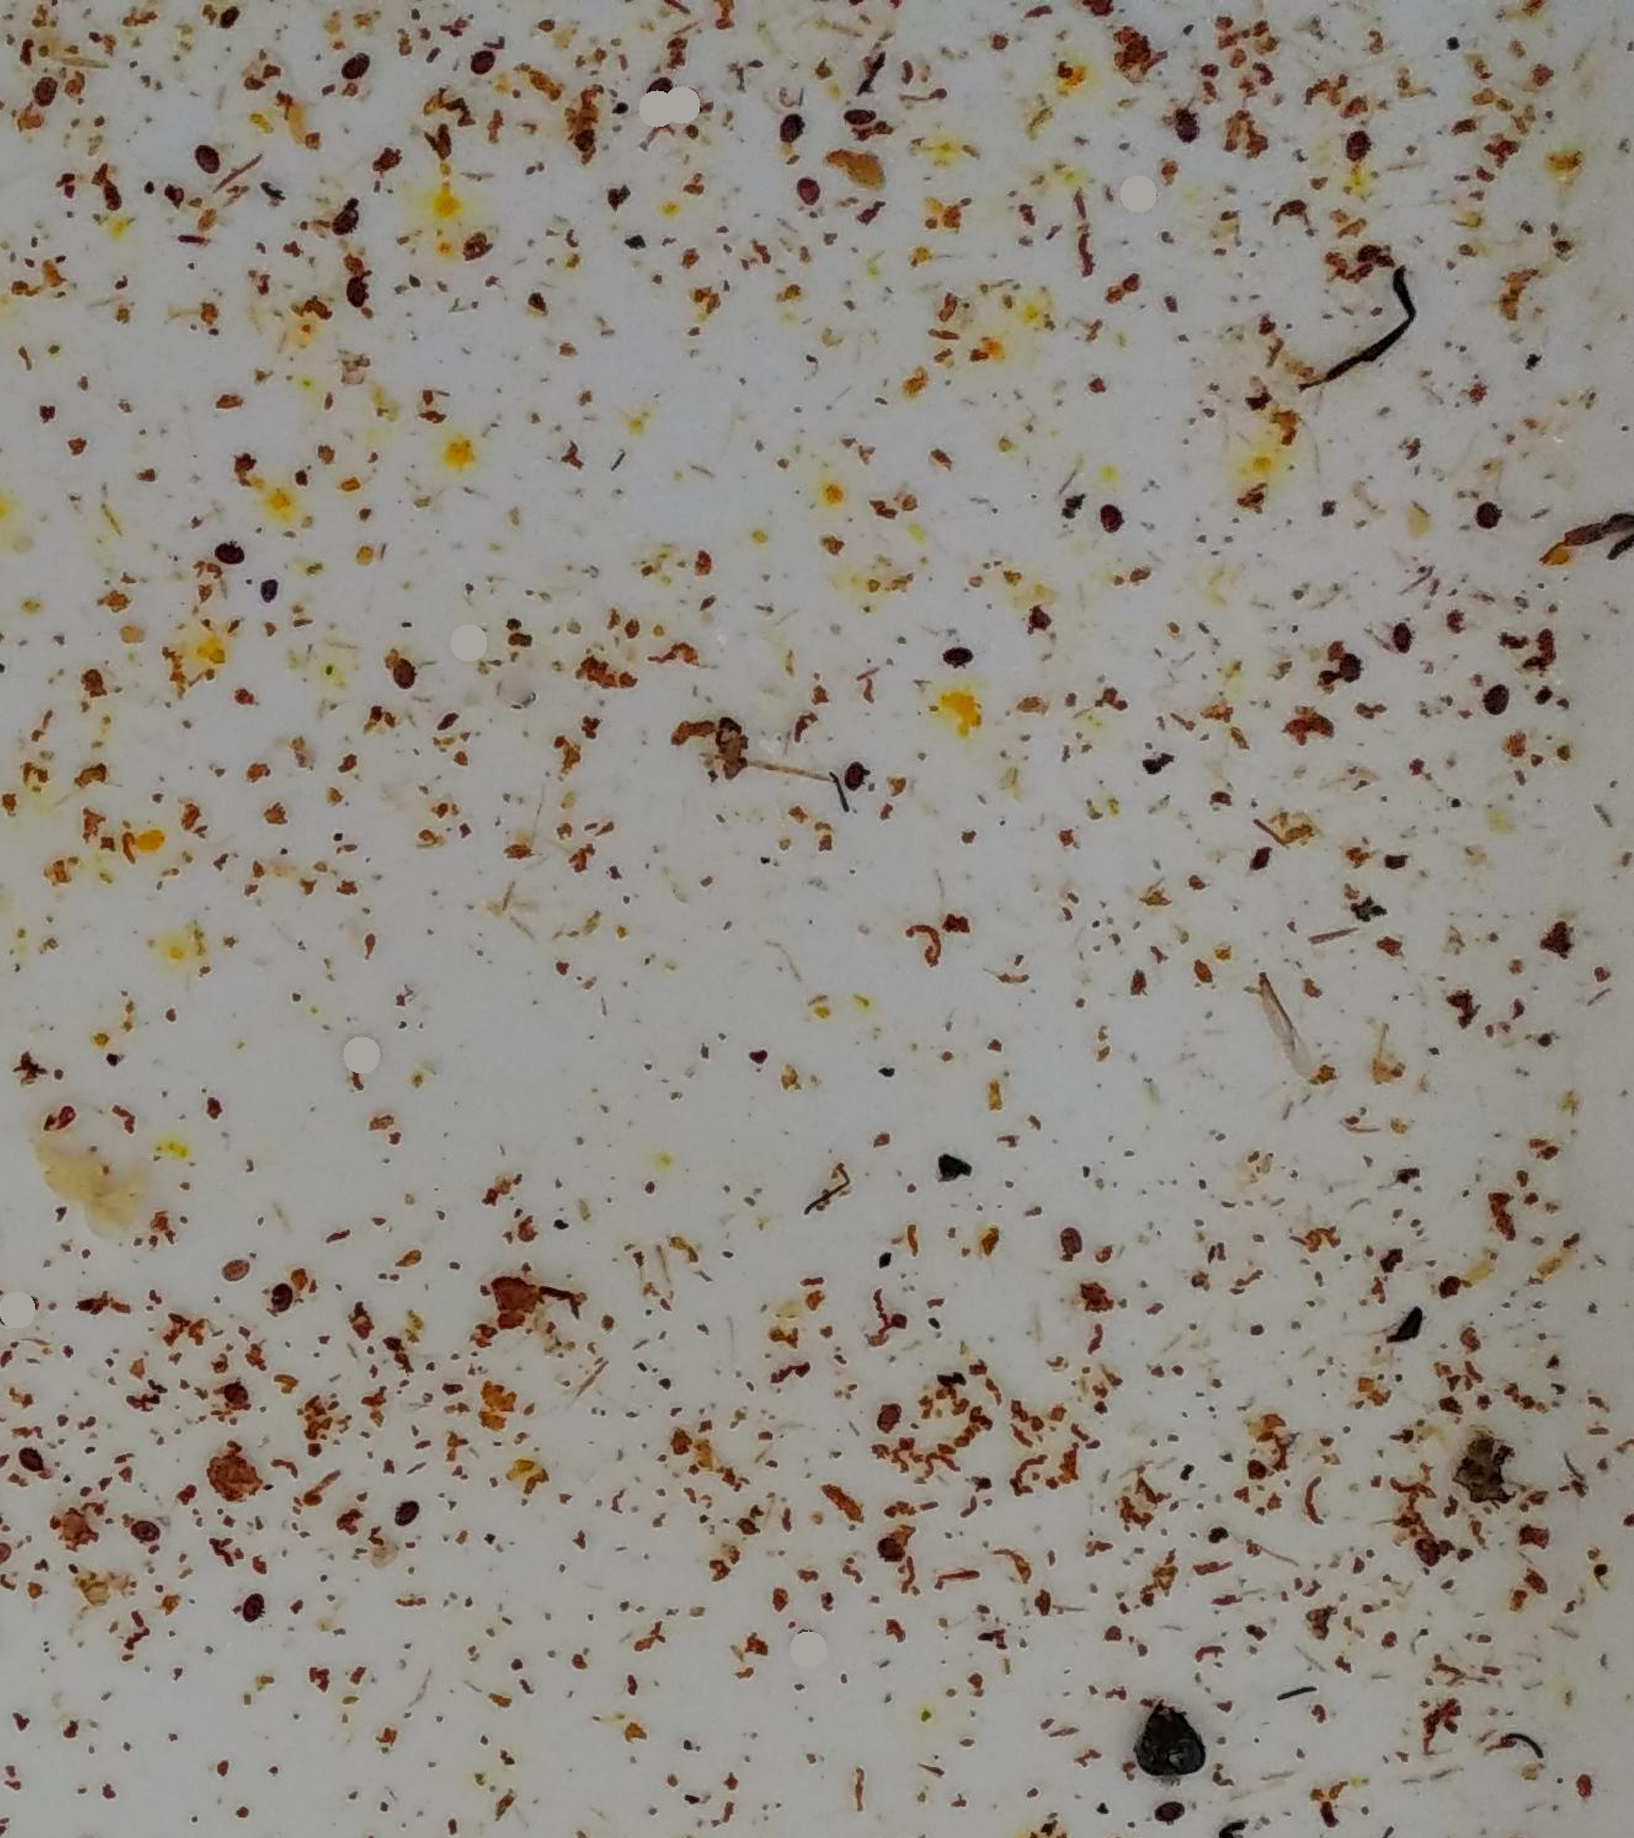Varroa: (1166, 107, 1208, 150), (1328, 644, 1371, 686), (128, 1519, 164, 1559), (1151, 1788, 1188, 1825), (334, 50, 371, 87), (218, 1254, 252, 1292), (345, 275, 377, 316), (1475, 682, 1509, 718), (1337, 137, 1374, 172), (771, 110, 808, 145), (845, 103, 880, 139), (1095, 499, 1128, 536), (1435, 1268, 1468, 1306), (388, 1497, 420, 1537), (461, 46, 495, 80), (17, 1444, 52, 1478), (942, 639, 976, 674), (211, 541, 246, 576), (841, 760, 875, 795), (1410, 1529, 1445, 1563), (386, 659, 420, 696), (33, 79, 66, 115), (1052, 1224, 1085, 1261), (232, 1589, 267, 1622), (265, 1280, 300, 1313), (1382, 615, 1415, 648), (192, 145, 224, 180), (216, 1376, 251, 1407), (796, 174, 828, 207), (867, 1401, 899, 1434), (875, 1535, 908, 1567), (323, 205, 355, 237), (1475, 502, 1505, 532), (252, 573, 285, 600)
